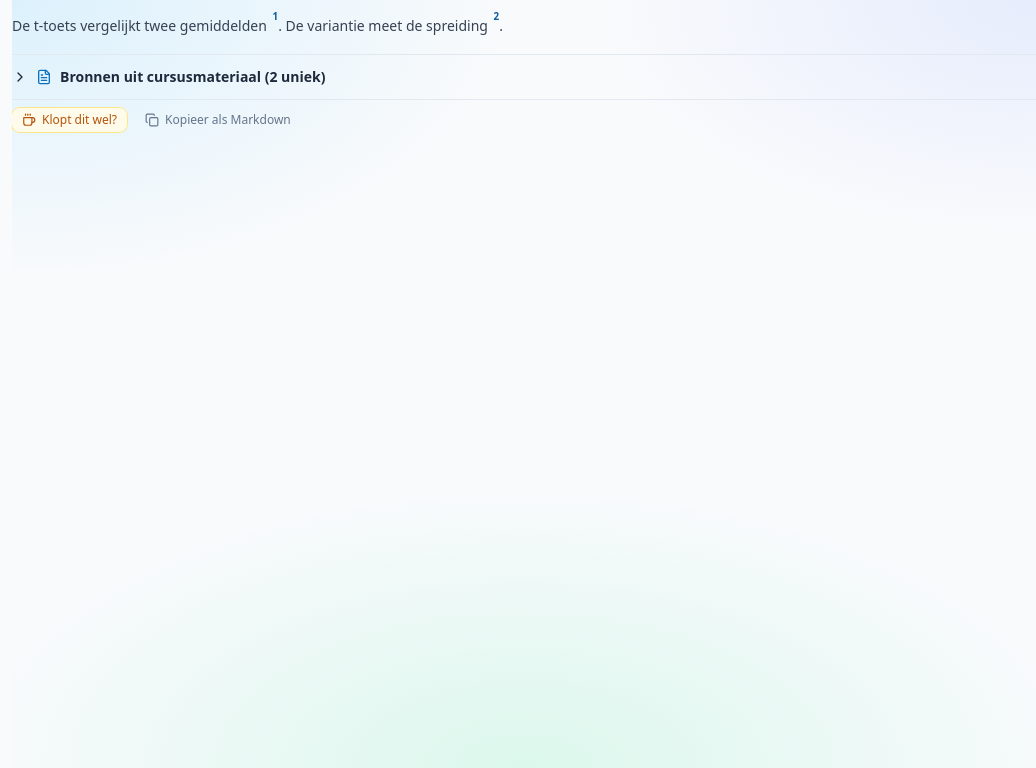
Scenario: AssistantMessageBody — broncitaties › klapt de bronnenlijst uit wanneer je op een in-tekst citatie klikt
Check: the text "2" is shown, box [494,10,499,23]
// Klik op citatie [1] → handleCitationClick opent de SourceList.
Click the text with test id "citation-1" at point(275, 17), box [272,10,278,23]
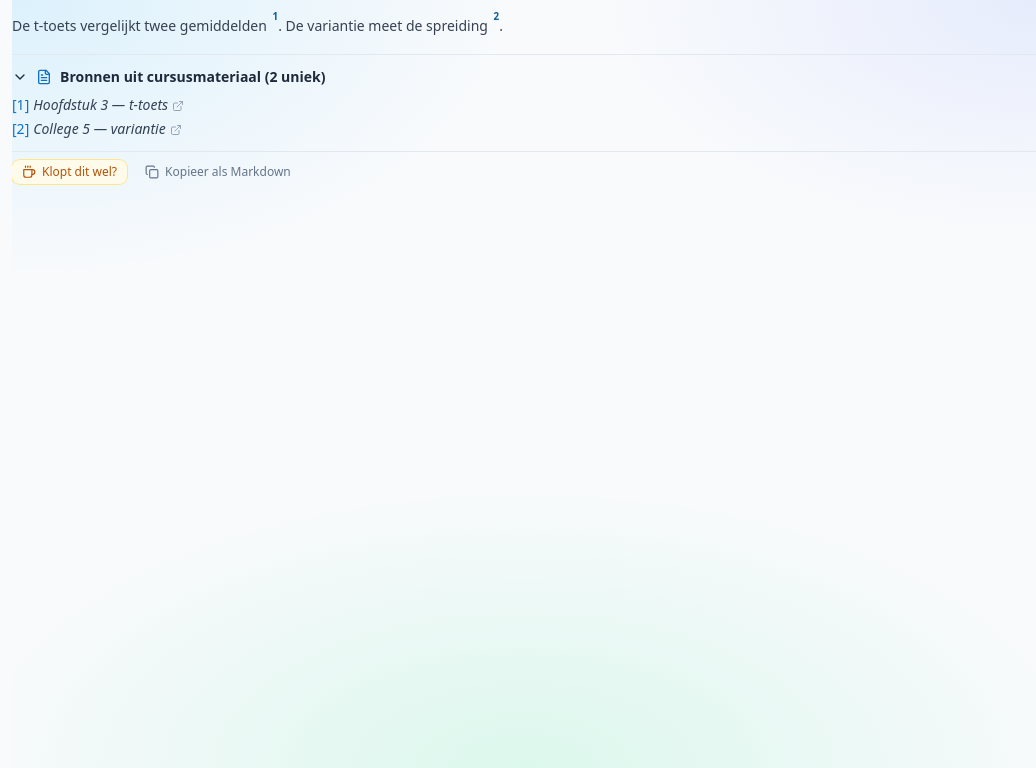
Check: the list with test id "list-sources" is shown, box [12,95,184,138]
Check: the list item with id "source-msg-1-1" is shown, box [12,95,184,114]
Check: the link with test id "link-source-1" shows "Hoofdstuk 3 — t-toets", box [12,95,184,115]
